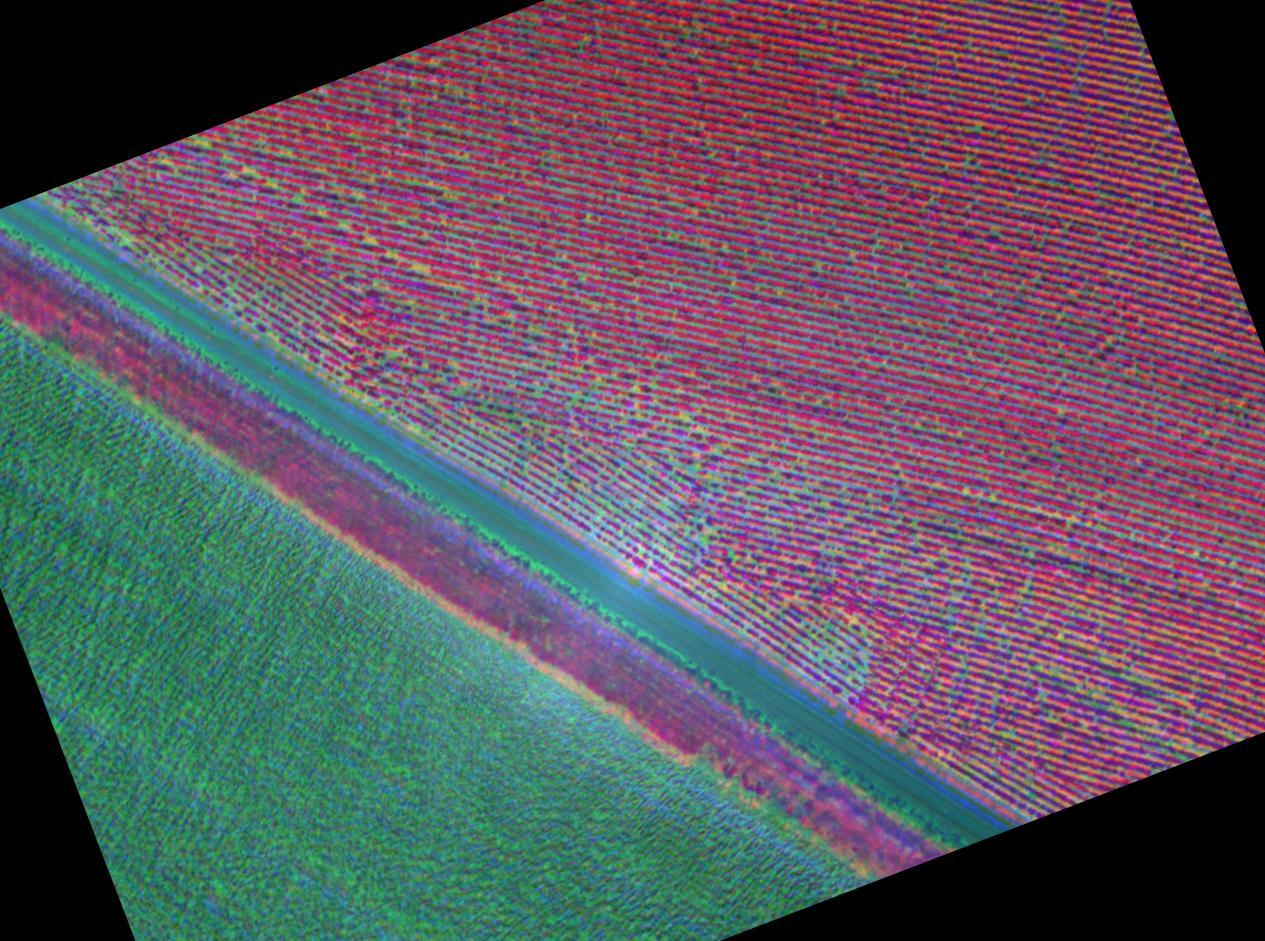dc: (445, 189, 457, 201), (952, 589, 962, 601), (1057, 404, 1065, 418), (388, 248, 398, 259), (1131, 671, 1142, 681), (341, 219, 350, 230), (860, 647, 869, 657), (991, 224, 998, 235), (1039, 687, 1045, 699), (707, 527, 716, 534)
